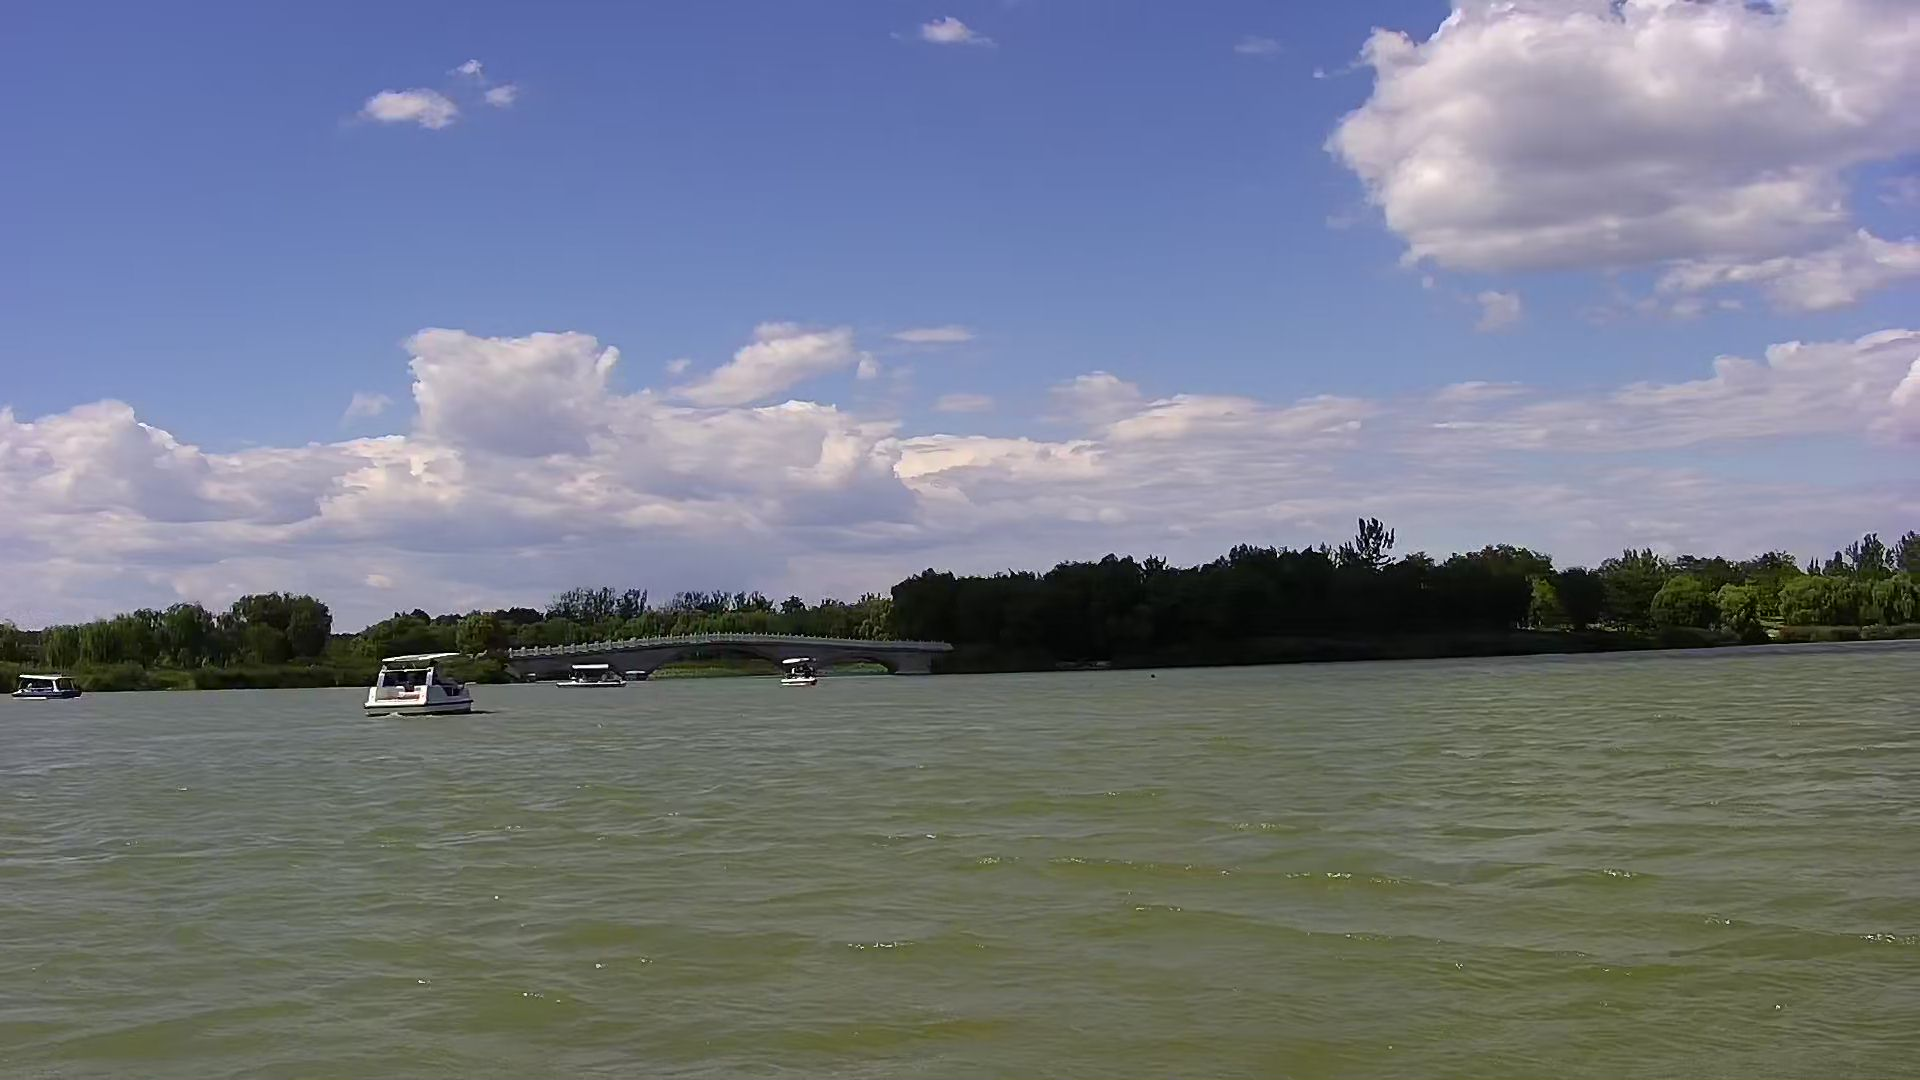boat: (359, 647, 481, 723), (547, 662, 647, 696), (11, 662, 80, 708), (773, 655, 823, 694)
bridge: (505, 628, 955, 690)
